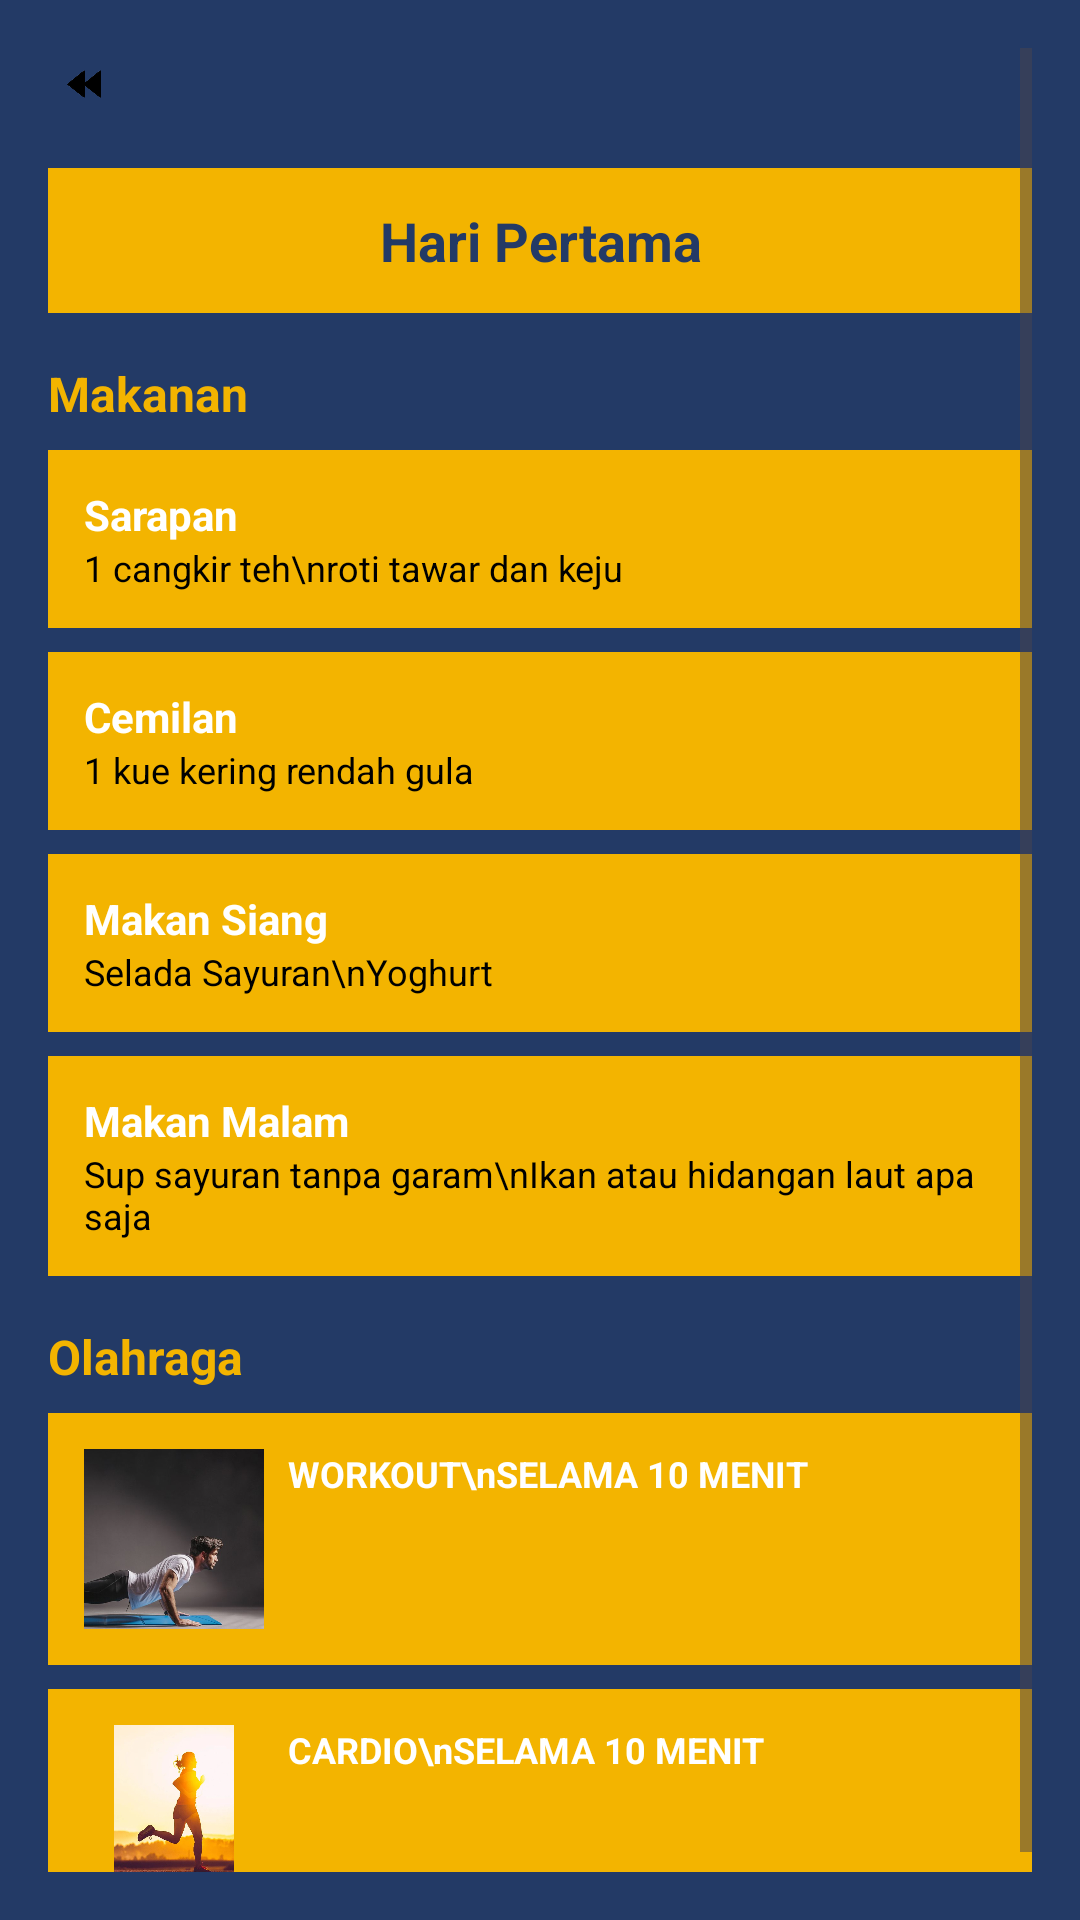

Screen size 1080px x 1920px. Icon name, then its box in pixels as bbox(x1, y1, x2, y2):
lari: bbox(84, 1725, 264, 1905)
tombolback: bbox(67, 70, 101, 98)
workoutbulking: bbox(84, 1449, 264, 1629)
